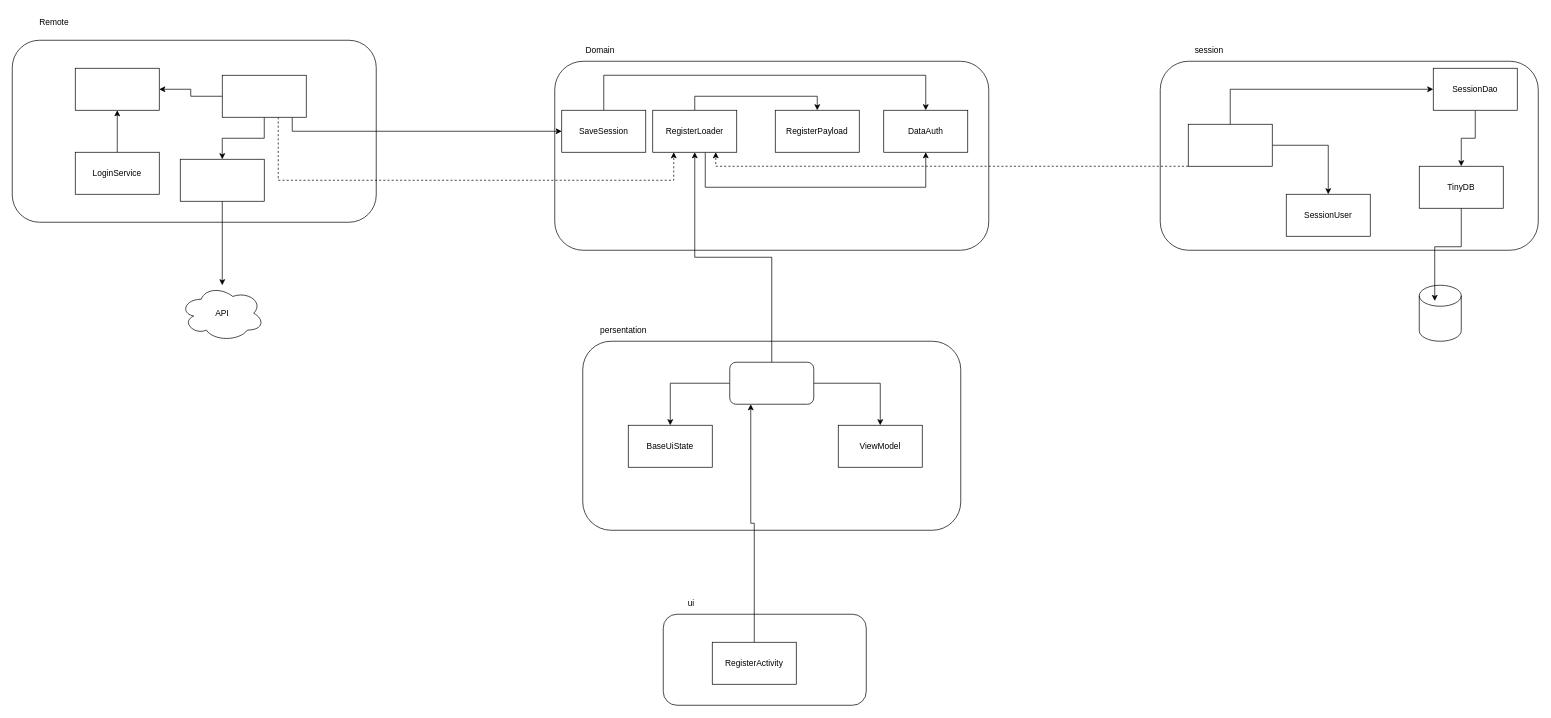
Image size: 1551x718. Some labels were removed from this diagram. Here are the shapes that lost their labels. From the top down, the centre of each, then its label:
At (x=117, y=89): "RemoteAuthUser".
At (x=264, y=96): "RemoteLogin".
At (x=1230, y=145): "LoadSession".
At (x=222, y=180): "HttpClient".
At (x=1440, y=313): "SharedPrefences".
At (x=771, y=383): "RegisterViewModel".
